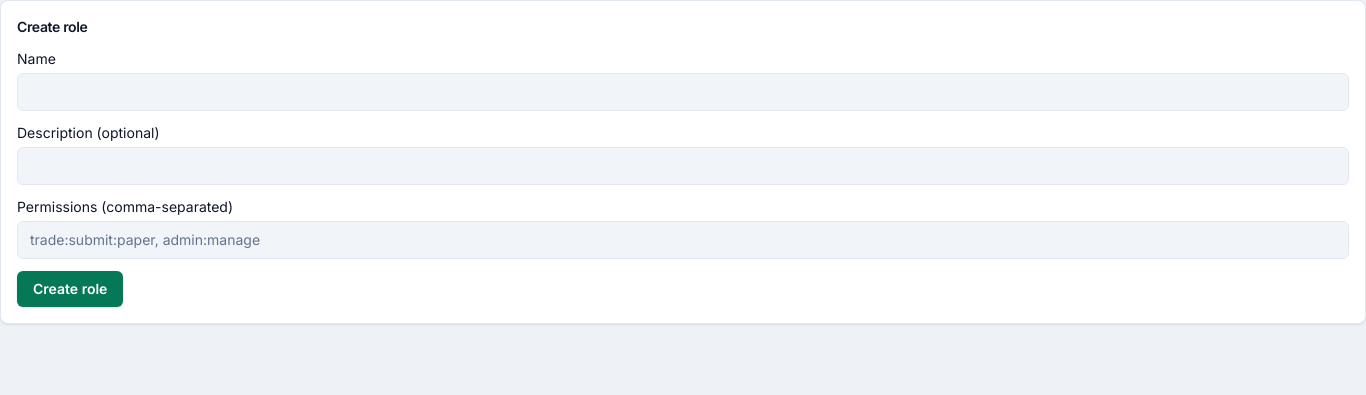
it: CreateRoleForm › surfaces a real 409 for a duplicate role name
In the field labelled "Name": point(683, 92) x1=17 y1=73 x2=1349 y2=111, type "trader"
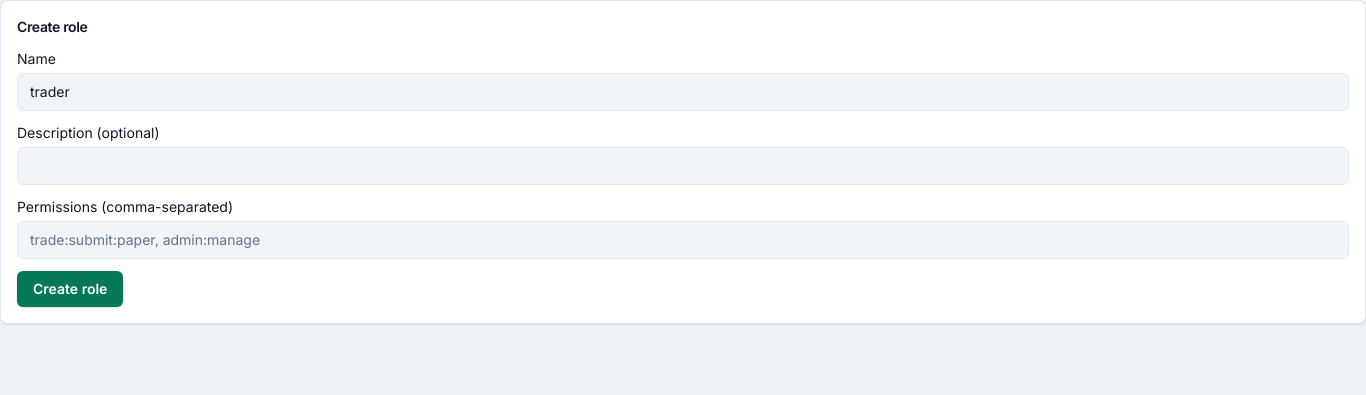
Click the button "Create role": point(70, 289) x1=17 y1=271 x2=123 y2=307
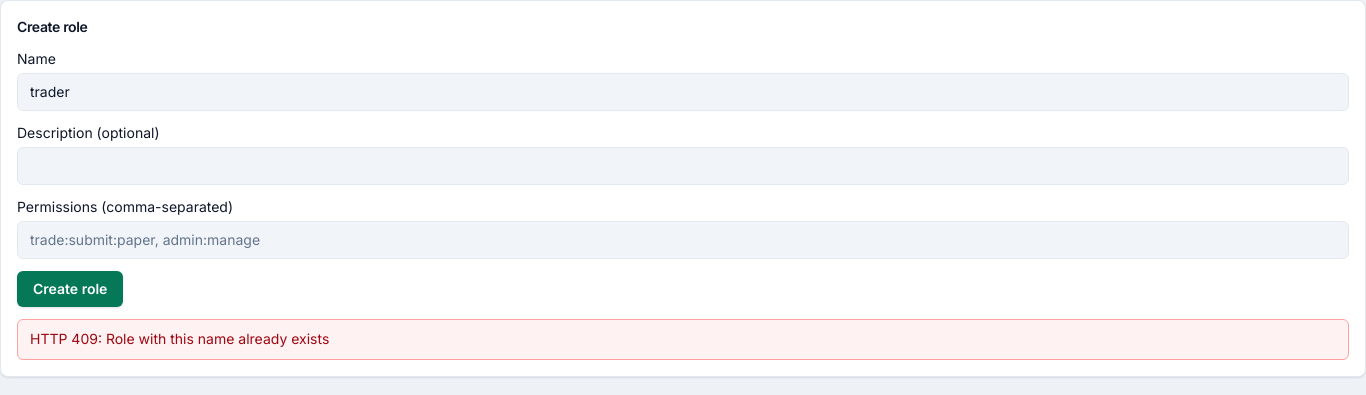
Now the text "HTTP 409: Role with this name already exists" is shown, box x1=17 y1=319 x2=1349 y2=360
